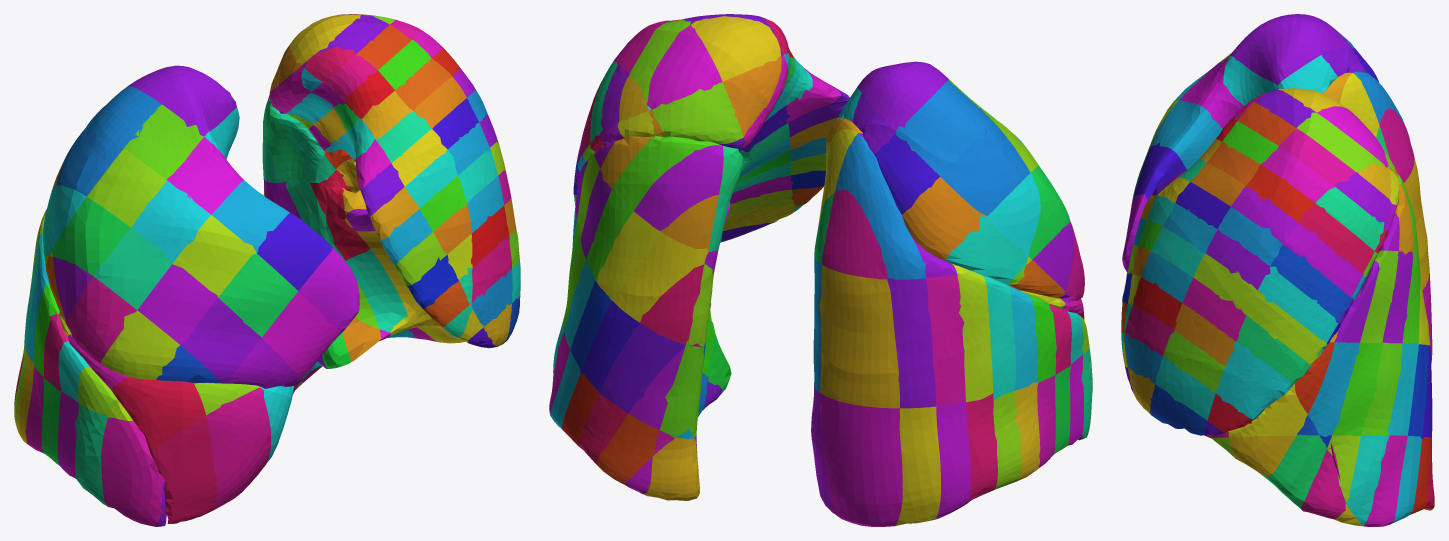
Rendered from lung-female-small.glb.
3 renders of one model, left to right at view 1: azimuth 30°, elevation 25°; view 2: azimuth 150°, elevation 25°; view 3: azimuth 270°, elevation 25°, orthographic. The views are drawn at different scales.
Parts seen in each view (by area): view 1: VHF_RML.147, VHF_RLL.38558, VHF_RML.148, VHF_RML.151, VHF_RUL.784, VHF_RUL.785, VHF_RUL.790, VHF_RUL.779, VHF_RUL.780, VHF_RUL.774, VHF_RUL.775, VHF_RUL.769 (+77 smaller); view 2: VHF_RLL.38587, VHF_RLL.38588, VHF_RLL.38583, VHF_RLL.38584, VHF_RUL.766, VHF_RUL.765, VHF_RLL.38585, VHF_LLL.1143, VHF_RLL.38581, VHF_RLL.38586, VHF_RUL.795, LUL.13039 (+72 smaller); view 3: VHF_RUL.772, VHF_RUL.781, VHF_LLL.1161, VHF_LLL.1157, VHF_LLL.1202, LUL.13069, LUL.13065, LUL.13073, LUL.13061, VHF_LLL.1154, VHF_LLL.1153, VHF_LLL.1150 (+69 smaller).
Boxes of the visible parts, left/top/right/bottom form: VHF_RML.147: left=206, top=387, right=270, bottom=510; VHF_RLL.38558: left=101, top=417, right=164, bottom=526; VHF_RML.148: left=150, top=416, right=217, bottom=523; VHF_RML.151: left=111, top=376, right=206, bottom=452; VHF_RUL.784: left=180, top=298, right=261, bottom=383; VHF_RUL.785: left=218, top=253, right=298, bottom=337; VHF_RUL.790: left=262, top=291, right=340, bottom=378; VHF_RUL.779: left=137, top=264, right=217, bottom=344; VHF_RUL.780: left=172, top=215, right=256, bottom=297; VHF_RUL.774: left=94, top=228, right=171, bottom=310; VHF_RUL.775: left=131, top=179, right=210, bottom=263; VHF_RUL.769: left=52, top=197, right=130, bottom=276; VHF_RLL.38587: left=819, top=265, right=899, bottom=408; VHF_RLL.38588: left=820, top=393, right=902, bottom=526; VHF_RLL.38583: left=835, top=133, right=926, bottom=279; VHF_RLL.38584: left=887, top=278, right=935, bottom=408; VHF_RUL.766: left=895, top=80, right=993, bottom=176; VHF_RUL.765: left=940, top=122, right=1030, bottom=215; VHF_RLL.38585: left=895, top=406, right=940, bottom=525; VHF_LLL.1143: left=634, top=145, right=723, bottom=230; VHF_RLL.38581: left=926, top=274, right=965, bottom=406; VHF_RLL.38586: left=822, top=190, right=888, bottom=279; VHF_RUL.795: left=902, top=177, right=987, bottom=260; LUL.13039: left=691, top=16, right=780, bottom=81; VHF_RUL.772: left=1230, top=18, right=1321, bottom=85; VHF_RUL.781: left=1150, top=100, right=1222, bottom=169; VHF_LLL.1161: left=1308, top=342, right=1359, bottom=436; VHF_LLL.1157: left=1332, top=342, right=1382, bottom=435; VHF_LLL.1202: left=1262, top=434, right=1326, bottom=508; LUL.13069: left=1258, top=266, right=1338, bottom=342; LUL.13065: left=1270, top=243, right=1351, bottom=323; LUL.13073: left=1246, top=291, right=1326, bottom=365; LUL.13061: left=1283, top=223, right=1363, bottom=297; VHF_LLL.1154: left=1346, top=435, right=1389, bottom=525; VHF_LLL.1153: left=1361, top=342, right=1402, bottom=435; VHF_LLL.1150: left=1363, top=435, right=1407, bottom=526.
Bounding box in the file's own units: 0.251 × 0.2223 × 0.1523.
